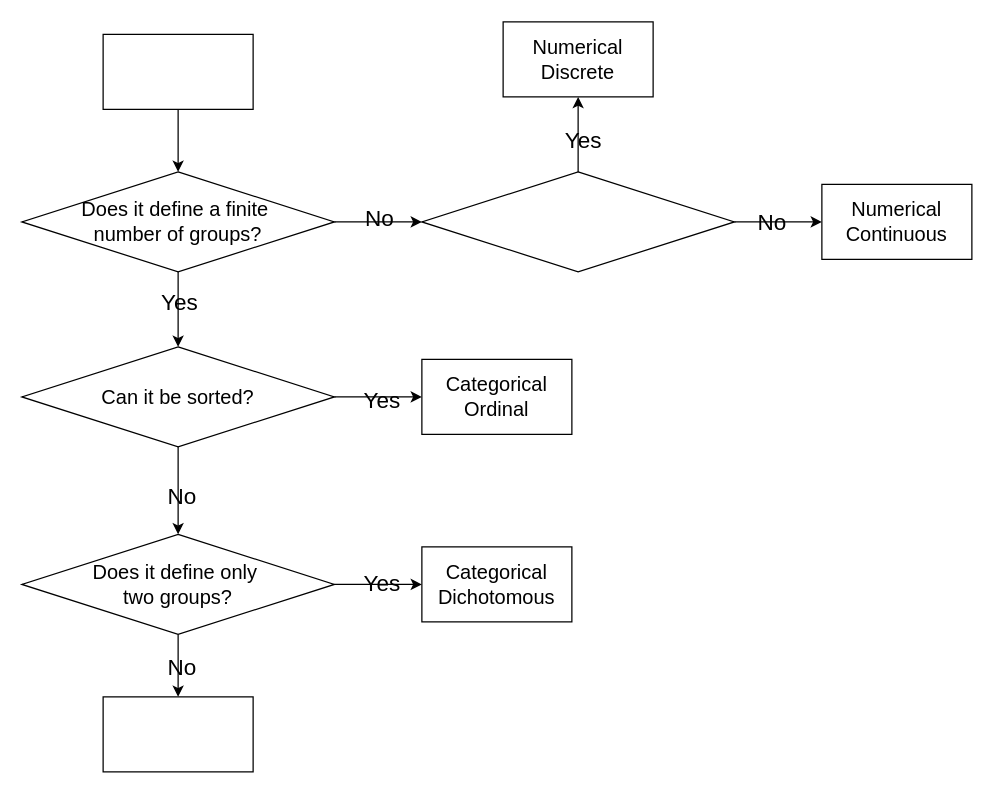
Image size: 994x794. Some labels were removed from this diagram. Each missing label, with the box of its shape:
Can it take only integer values?: (421, 171, 734, 272)
Categorical Polytomous: (102, 696, 253, 772)
The variable...: (102, 33, 253, 109)
